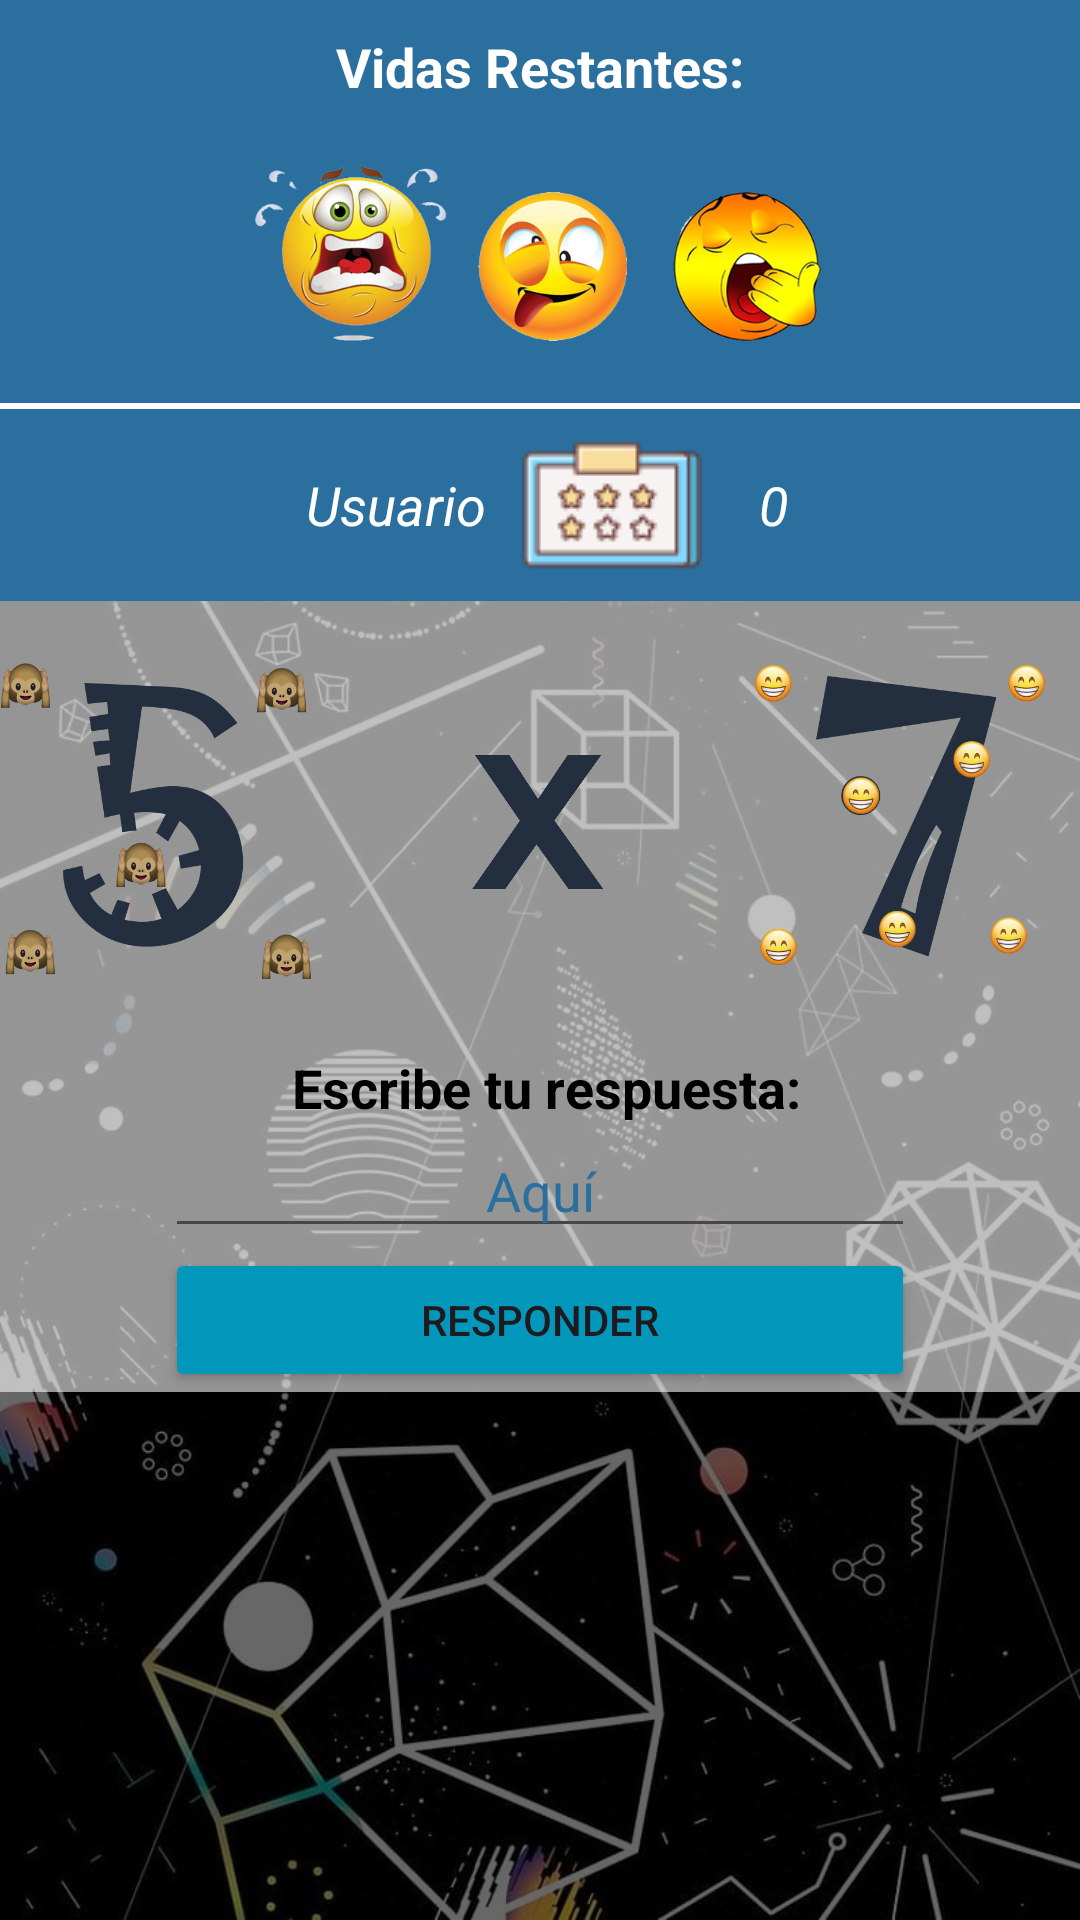

Point at icon controls on the screen. Image size 1080px x 1920px, points as (x,y).
score: (612,505)
